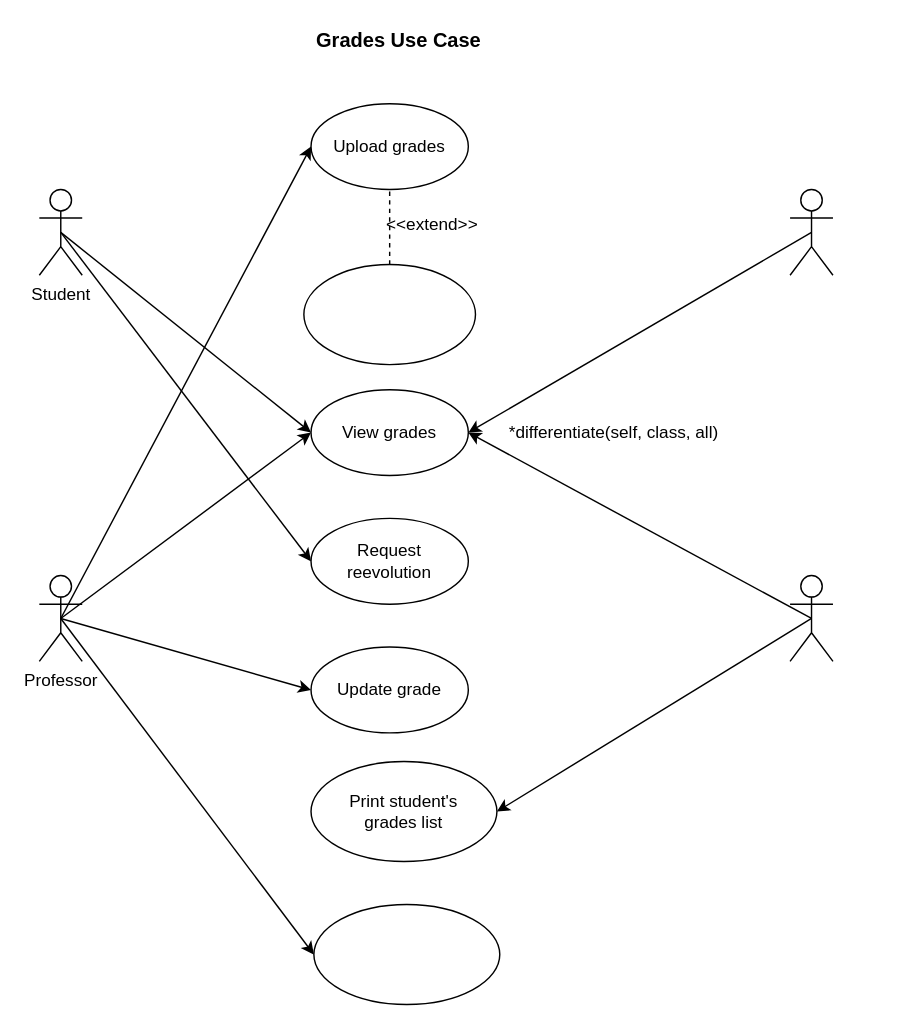
The diagram is 909 pixels wide and 1030 high, and some of its shapes have lost their labels. The shapes that lost their labels are listed below. From the top down, each one's centre as x and y in pixels, then its label:
(811,231): Admin
(388,314): Specify type/weight of grade
(811,617): Registration Office
(406,954): View requested grade reevolution
